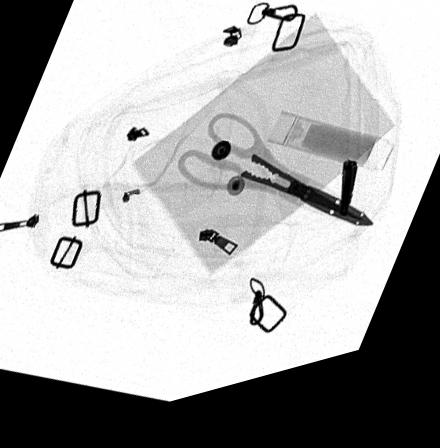Scissors: (175, 121, 377, 248)
